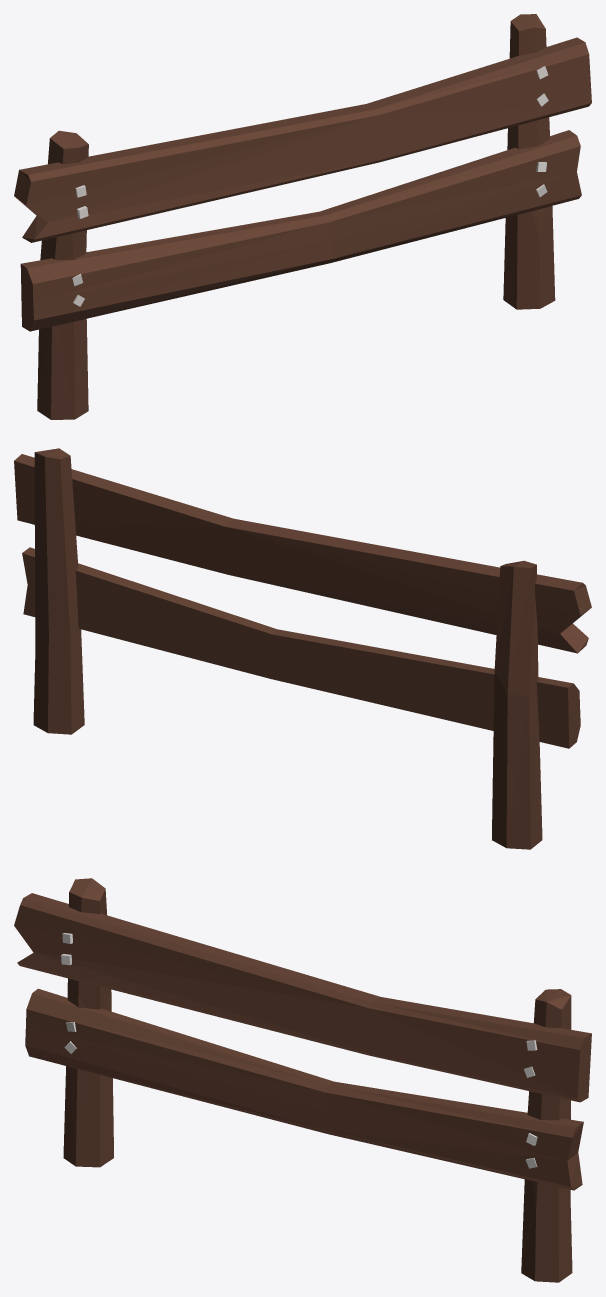
Rendered from Fence_3 Island.fbx.
3 renders of one model, top to bottom at view 1: azimuth 30°, elevation 25°; view 2: azimuth 150°, elevation 25°; view 3: azimuth 330°, elevation 25°, orthographic.
Parts seen in each view (by area): view 1: Fence_3; view 2: Fence_3; view 3: Fence_3.
Boxes of the visible parts, bbox=[...] form: Fence_3: bbox=[14, 14, 591, 419]; Fence_3: bbox=[14, 448, 591, 849]; Fence_3: bbox=[14, 878, 591, 1282].
Size of the model in its own units: 2.03 by 0.9524 by 0.2057.
